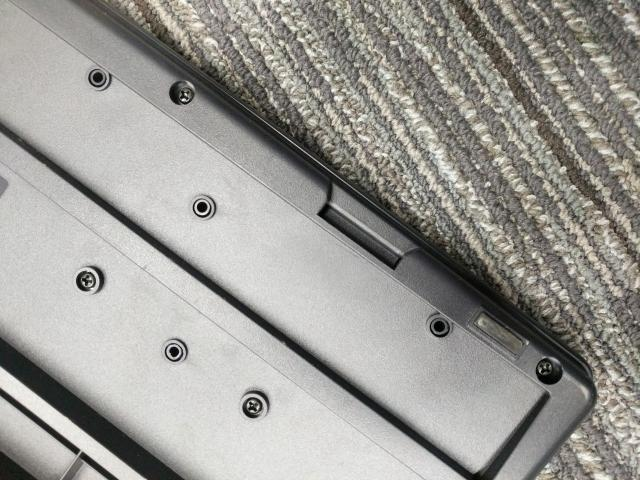CRS: (242, 397, 264, 418), (78, 270, 98, 290), (535, 359, 555, 378), (177, 86, 193, 102)
